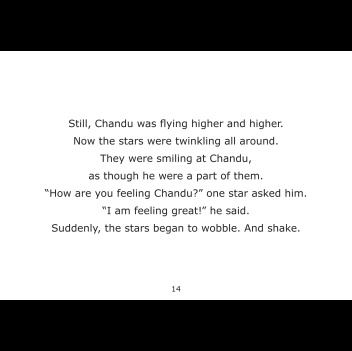latin: (42, 184, 307, 199), (50, 222, 301, 234), (66, 116, 285, 129), (72, 133, 278, 146), (87, 169, 263, 182), (99, 203, 250, 217), (97, 151, 251, 164)
